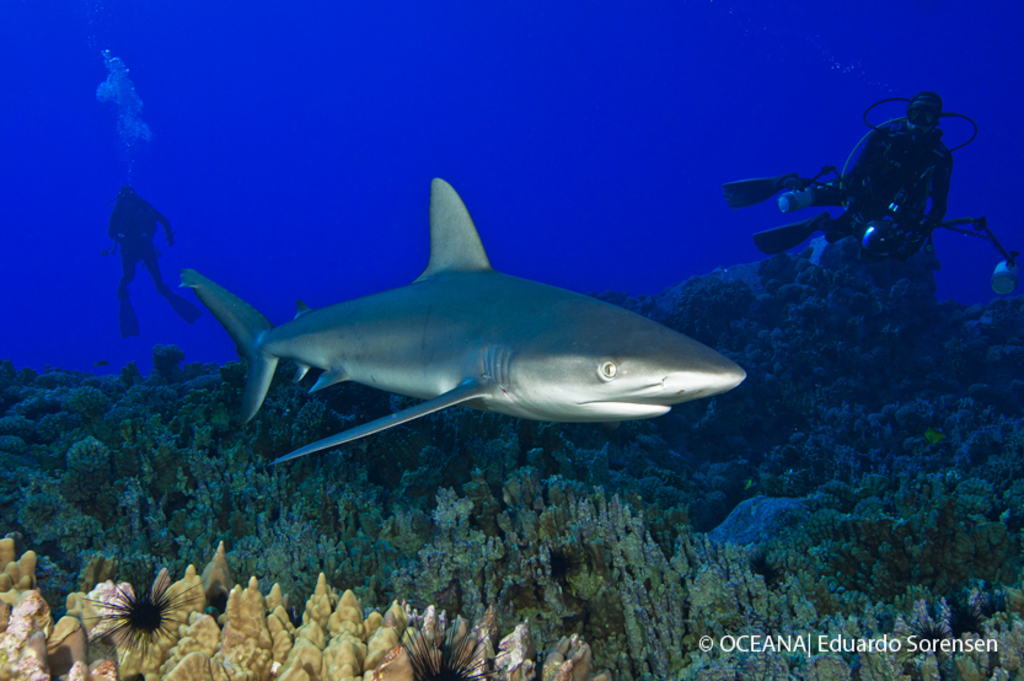Person: (721, 93, 955, 255), (104, 184, 202, 338)
